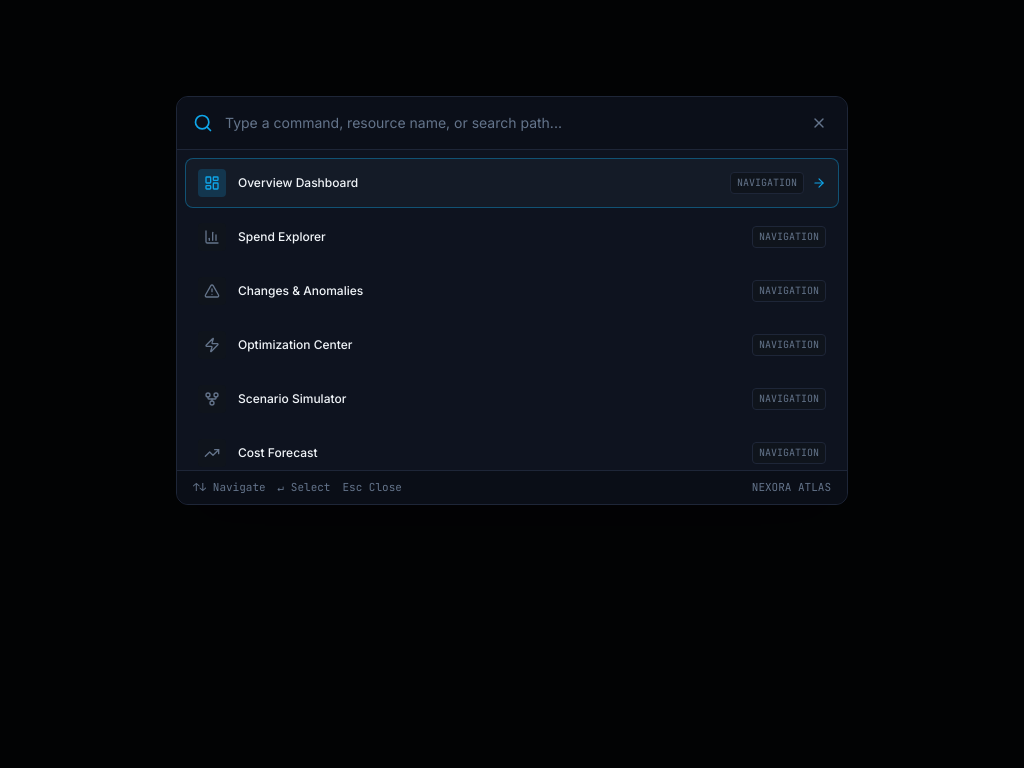
Test: CommandPalette Component › filters results based on search input
Type "Forecast" into the field with placeholder "Type a command, resource name, or search path..." at coordinates (510, 123), box [225,113,795,133]
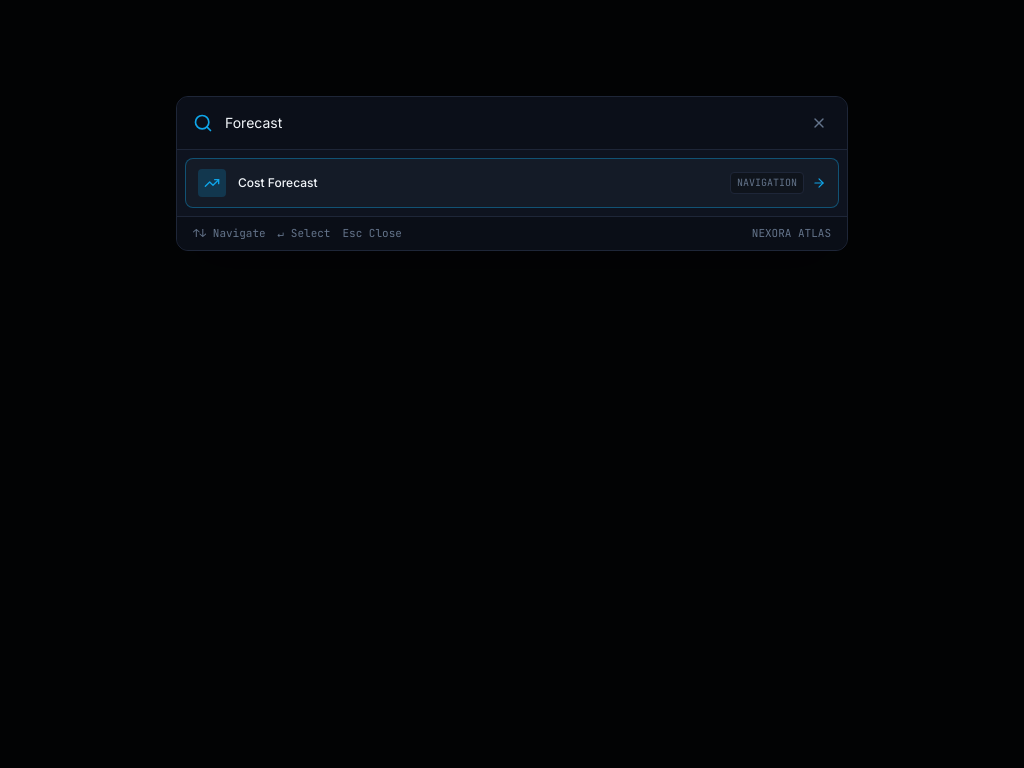
expect the text "Cost Forecast" is shown: met, box [238,175,318,191]
expect the option "Spend Explorer" is gone: met
